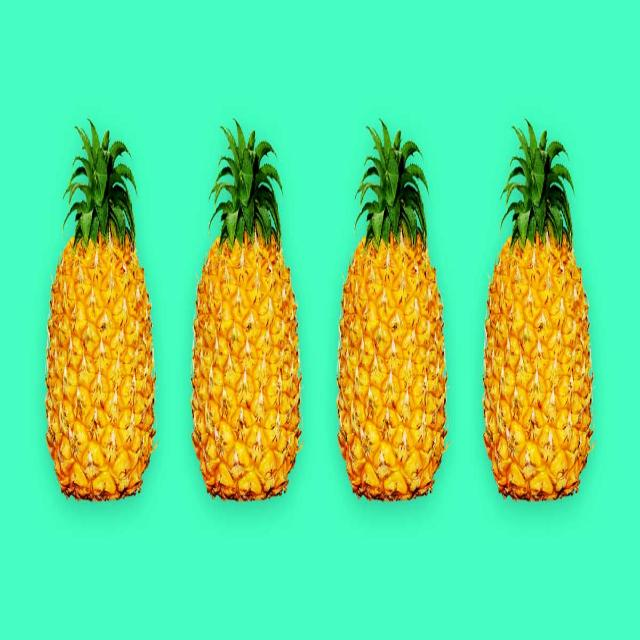pineapple: (41, 130, 173, 502), (482, 117, 596, 505), (189, 115, 302, 500), (338, 117, 450, 502)
